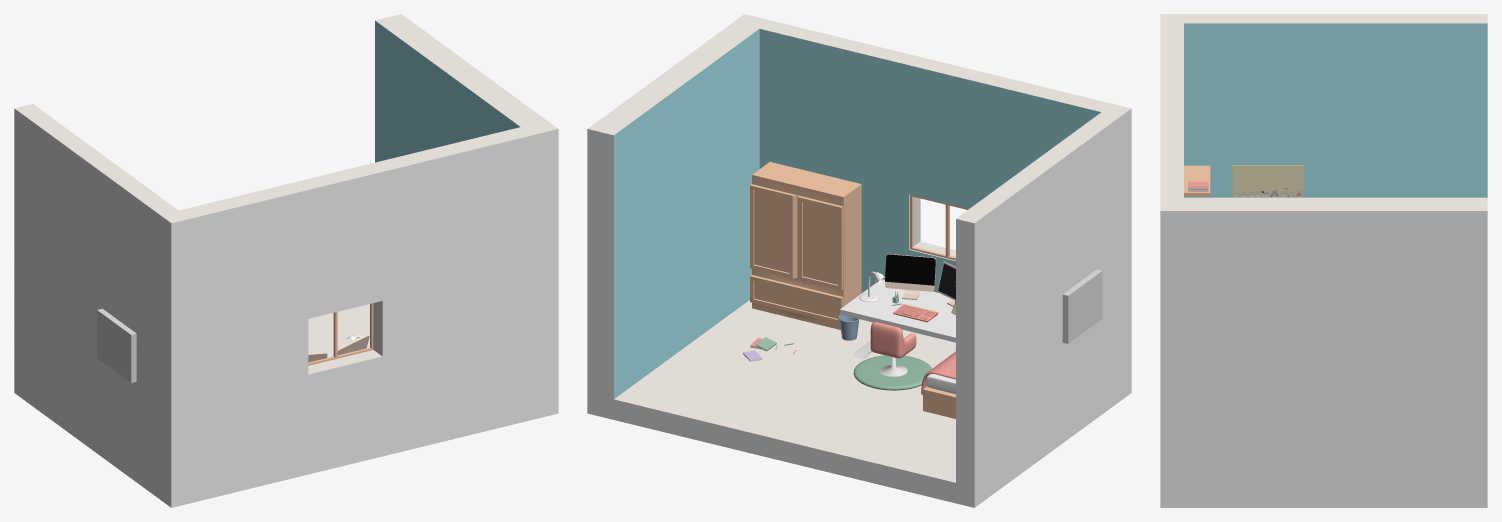
Rendered from Study_Room_36.glb.
3 renders of one model, left to right at view 1: azimuth 30°, elevation 25°; view 2: azimuth 150°, elevation 25°; view 3: azimuth 270°, elevation 25°, orthographic. The views are drawn at different scales.
Parts seen in each view (by area): view 1: Room, Cube, Window Frame; view 2: Room, Closet, Table Top, Cube, Rug, Desktop Screen, Chair, Bedframe, Window Frame; view 3: Room, Cube.001, Shelf.001.
Part boxes in pixels (bbox=[...]): Room: bbox=[14, 14, 558, 507]; Cube: bbox=[97, 308, 136, 382]; Window Frame: bbox=[308, 303, 373, 365]; Room: bbox=[587, 14, 1131, 507]; Closet: bbox=[750, 162, 861, 329]; Table Top: bbox=[840, 279, 955, 342]; Cube: bbox=[1062, 269, 1102, 343]; Rug: bbox=[853, 355, 931, 390]; Desktop Screen: bbox=[885, 254, 935, 285]; Chair: bbox=[870, 322, 916, 358]; Bedframe: bbox=[923, 386, 955, 418]; Window Frame: bbox=[910, 194, 968, 260]; Room: bbox=[1160, 14, 1487, 507]; Cube.001: bbox=[1232, 165, 1303, 197]; Shelf.001: bbox=[1184, 165, 1210, 196].
Bounding box in the file's own units: 28.12 × 19.48 × 19.48.
Materials: 29 (4 with a texture image).
